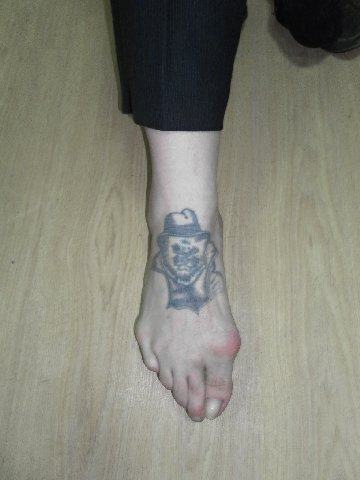tatu8_kot: (150, 205, 231, 319)
